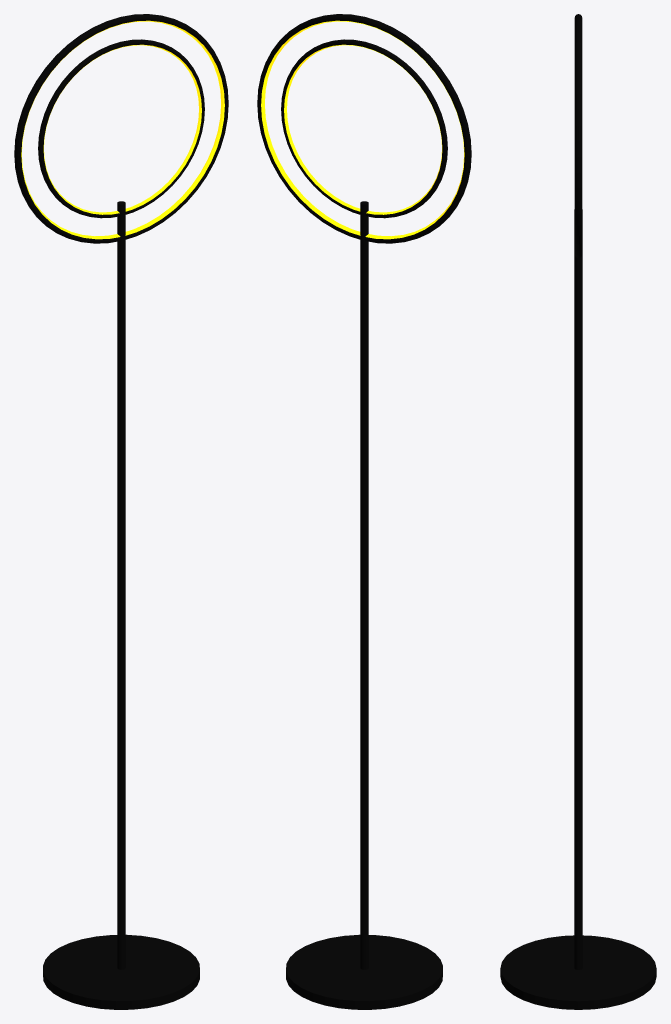
File: LEDLamp.fbx
3 views of the same model, side by side, from view 1: azimuth 30°, elevation 25°; view 2: azimuth 150°, elevation 25°; view 3: azimuth 270°, elevation 25° (orthographic).
Parts seen in each view (by area): view 1: FloorLampLivingRoom; view 2: FloorLampLivingRoom; view 3: FloorLampLivingRoom.
Boxes of the visible parts, x1=… form: FloorLampLivingRoom: x1=14, y1=14, x2=228, y2=1009; FloorLampLivingRoom: x1=257, y1=14, x2=471, y2=1009; FloorLampLivingRoom: x1=500, y1=14, x2=656, y2=1009.
Bounding box in the file's own units: 130 × 558 × 83.03.
